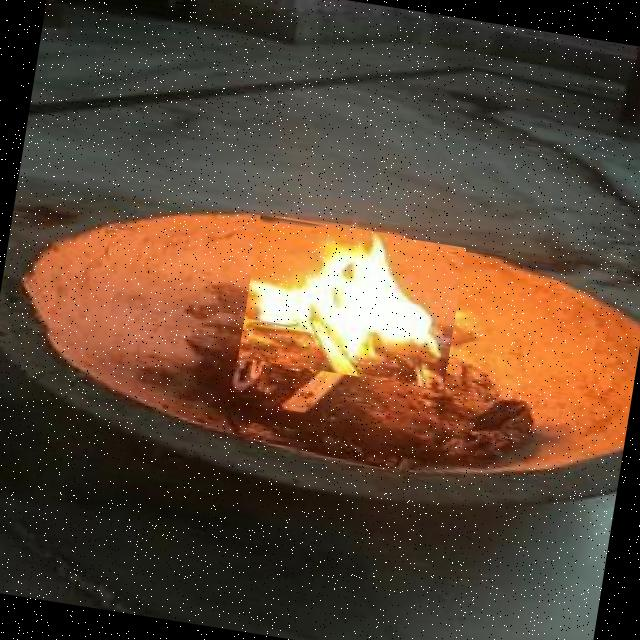fire: (238, 216, 466, 390)
